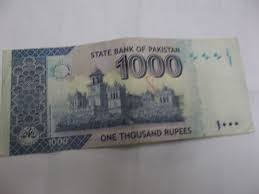1000 rupee: (4, 26, 255, 158)
